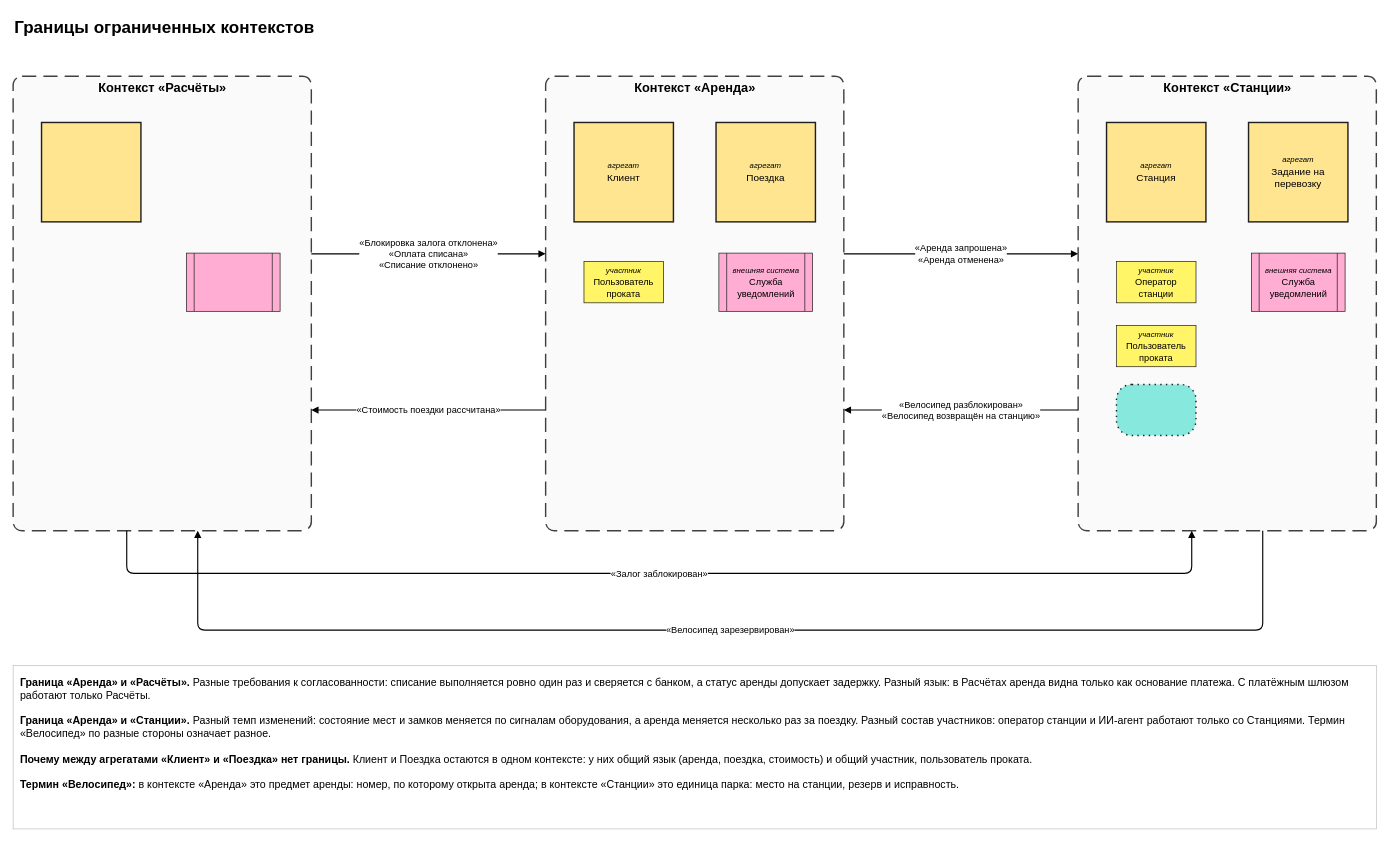
This 1389x841 diagram has some shape labels left out. Here are the shapes that lost their labels. From the top down, the centre of each, then its label:
point 90,171: агрегат Платёж
point 233,281: внешняя система Платёжный шлюз
point 1155,409: ИИ-агент Агент планирования перевозок
